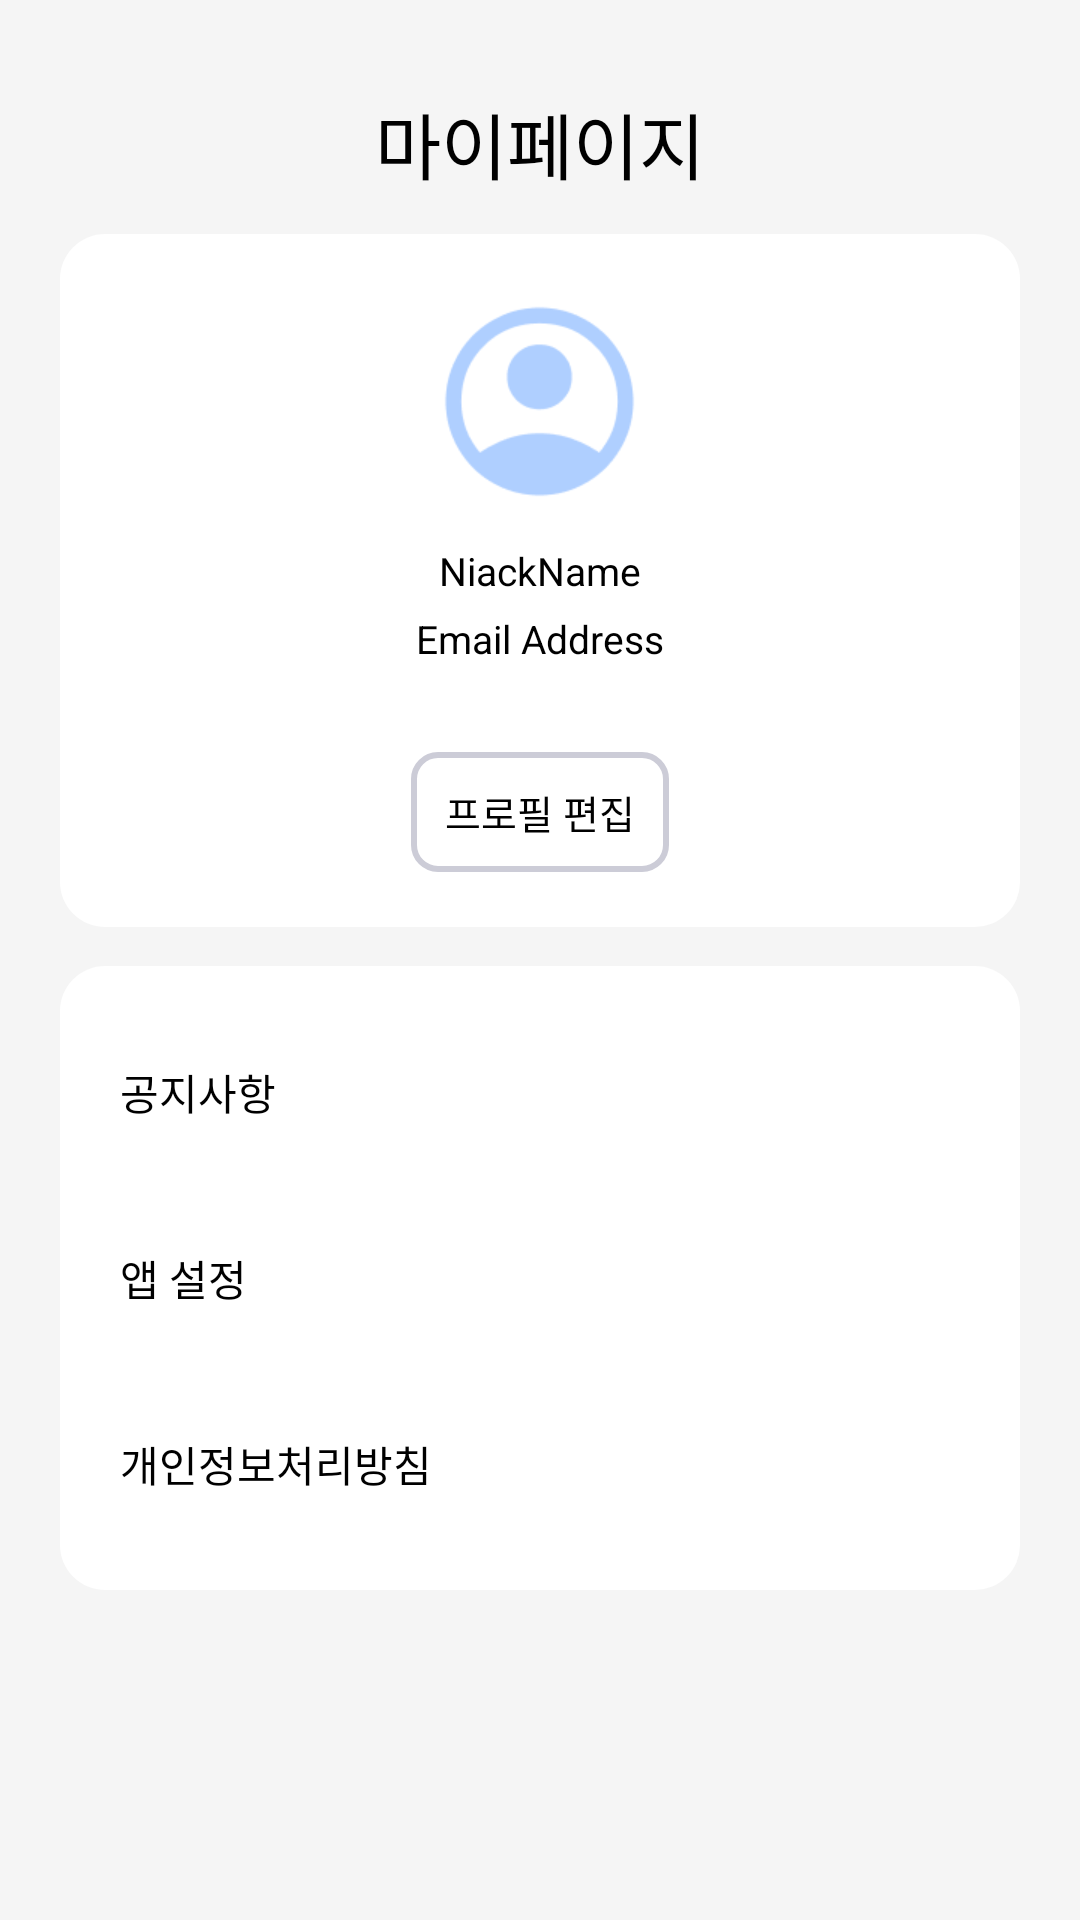

Where icons sit on this 1080×1920 app screen, as (x1, y1, x2, y2):
user: (445, 307, 634, 496)
